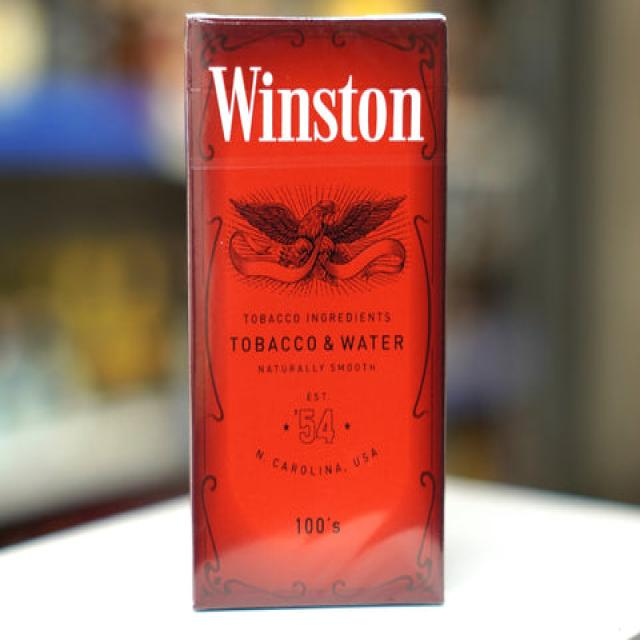winston: (180, 13, 447, 608)
